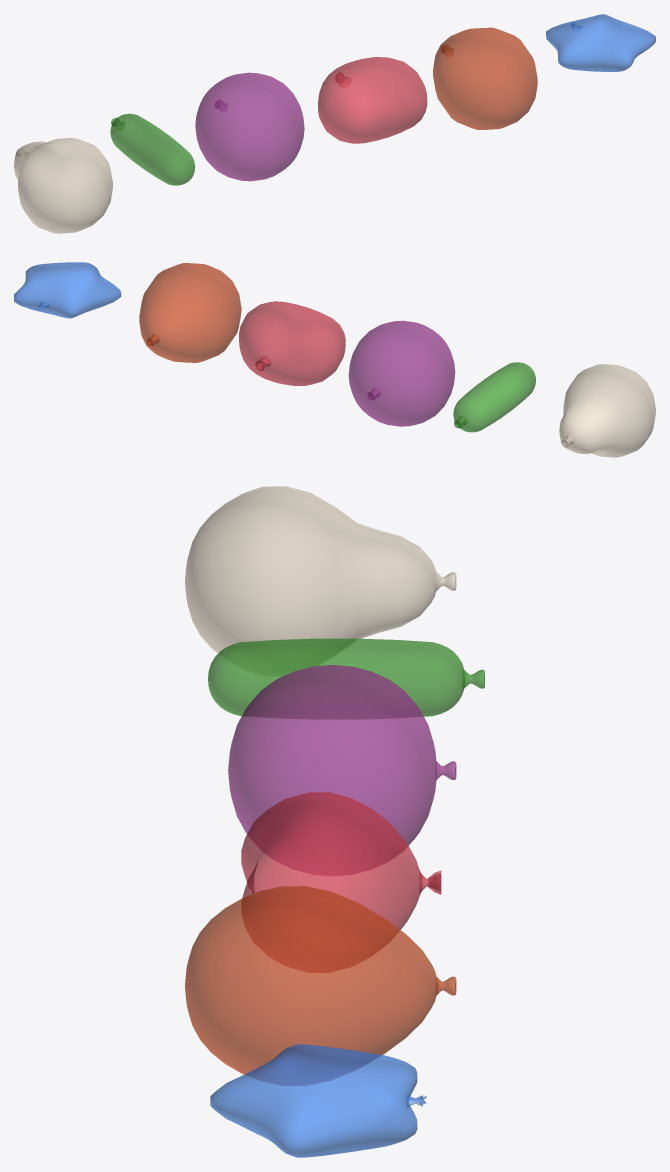
Rendered from Balloons.glb.
The picture shows the model from 3 angles, top to bottom: view 1: azimuth 30°, elevation 25°; view 2: azimuth 150°, elevation 25°; view 3: azimuth 270°, elevation 25°; orthographic projection. The views are drawn at different scales.
Parts seen in each view (by area): view 1: Sphere, Basic, Bulb, Heart, Star, Tube; view 2: Sphere, Basic, Bulb, Heart, Star, Tube; view 3: Basic, Sphere, Bulb, Heart, Tube, Star.
Boxes of the visible parts, x1,y1,x2,y2 form: Sphere: (195, 72, 304, 181); Basic: (433, 27, 537, 129); Bulb: (14, 138, 112, 233); Heart: (318, 57, 427, 143); Star: (546, 14, 655, 71); Tube: (110, 113, 195, 185); Sphere: (348, 320, 455, 426); Basic: (139, 263, 241, 362); Bulb: (559, 364, 655, 457); Heart: (239, 301, 345, 385); Star: (14, 262, 121, 318); Tube: (453, 362, 535, 432); Basic: (185, 886, 456, 1085); Sphere: (228, 665, 456, 875); Bulb: (185, 486, 456, 676); Heart: (241, 792, 441, 972); Tube: (208, 638, 484, 718); Star: (210, 1044, 426, 1157).
Bounding box in the file's own units: 6.73 × 0.9842 × 1.41.
